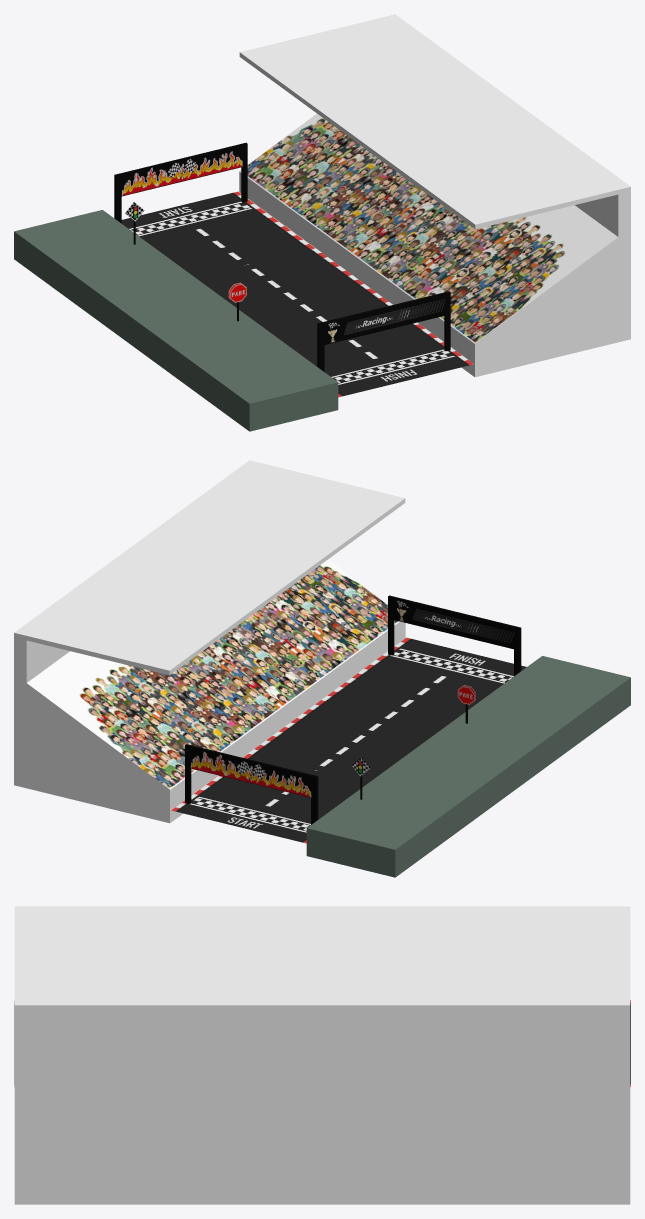
Rendered from Race Game2.fbx.
The picture shows the model from 3 angles, top to bottom: view 1: azimuth 30°, elevation 25°; view 2: azimuth 150°, elevation 25°; view 3: azimuth 270°, elevation 25°; orthographic projection. The views are drawn at different scales.
Visible parts, largest first — view 1: Cube.002, Cube.001, Cube, Plane, Plane.001; view 2: Cube.002, Cube.001, Cube, Plane, Plane.001; view 3: Cube.002.
Part boxes in pixels (box(x1,y1,x2,y2)): Cube.002: box(239, 14, 630, 377); Cube.001: box(14, 210, 338, 431); Cube: box(121, 191, 473, 397); Plane: box(114, 142, 247, 223); Plane.001: box(317, 291, 450, 371); Cube.002: box(14, 460, 405, 823); Cube.001: box(306, 656, 630, 877); Cube: box(171, 637, 526, 843); Plane: box(185, 744, 318, 824); Plane.001: box(388, 595, 521, 676); Cube.002: box(14, 906, 630, 1204).
Bounding box in the file's own units: 6071 × 2321 × 6512.
8 materials, 6 textured.
